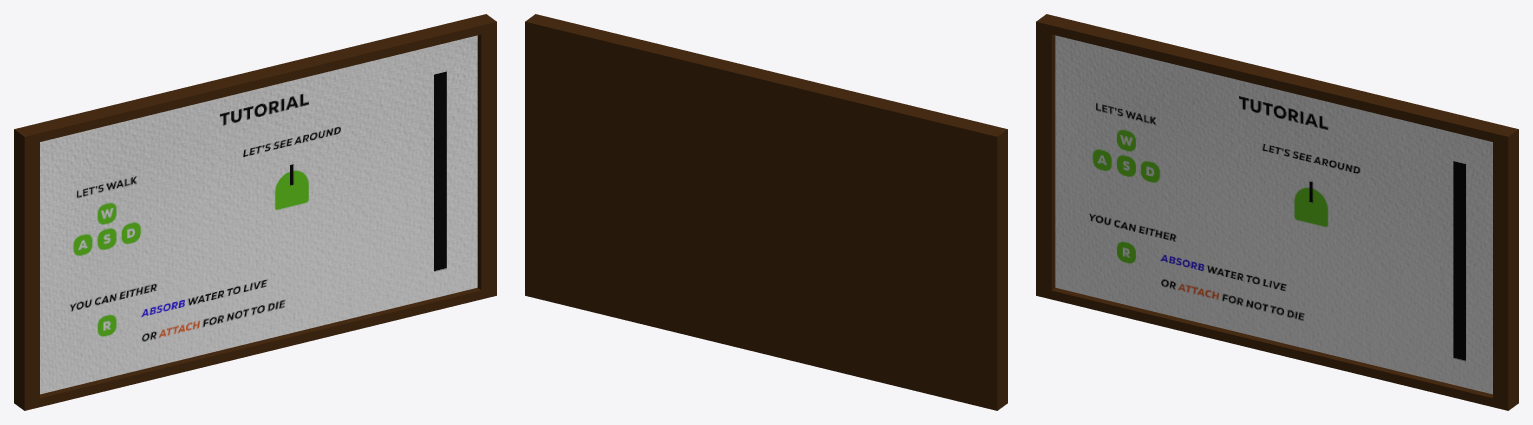
Rendered from Tutorial 3D.fbx.
The picture shows the model from 3 angles, left to right: view 1: azimuth 30°, elevation 25°; view 2: azimuth 150°, elevation 25°; view 3: azimuth 330°, elevation 25°; orthographic projection.
Parts seen in each view (by area): view 1: Tutorial, Cube; view 2: Cube; view 3: Tutorial, Cube.
Part boxes in pixels (x1,y1,x2,y2): Tutorial: [40, 35, 477, 394]; Cube: [14, 14, 496, 410]; Cube: [525, 14, 1007, 410]; Tutorial: [1055, 35, 1492, 394]; Cube: [1036, 14, 1518, 410].
Bounding box in the file's own units: 1013 × 562 × 39.02.
